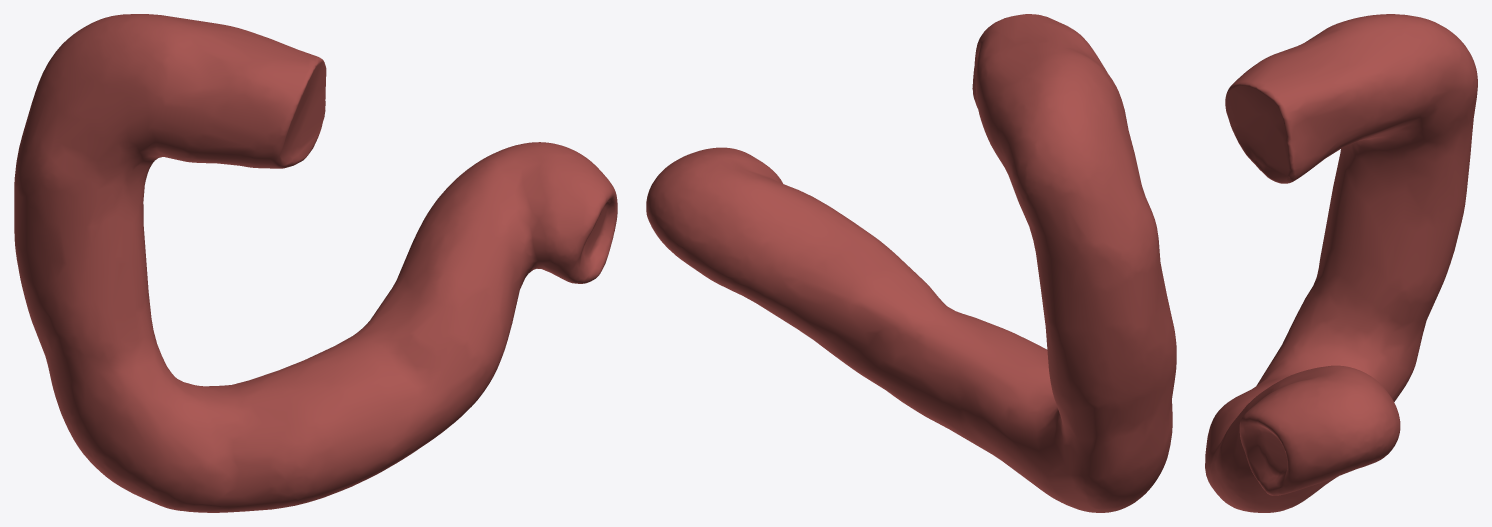
File: FMA7206.glb
3 renders of one model, left to right at view 1: azimuth 30°, elevation 25°; view 2: azimuth 150°, elevation 25°; view 3: azimuth 270°, elevation 25°, orthographic. The views are drawn at different scales.
Visible parts, largest first — view 1: FMA7206; view 2: FMA7206; view 3: FMA7206.
Boxes of the visible parts, left/top/right/bottom form: FMA7206: left=14, top=14, right=617, bottom=512; FMA7206: left=646, top=14, right=1176, bottom=512; FMA7206: left=1205, top=14, right=1477, bottom=512.
Size of the model in its own units: 0.1196 by 0.0975 by 0.0555.
